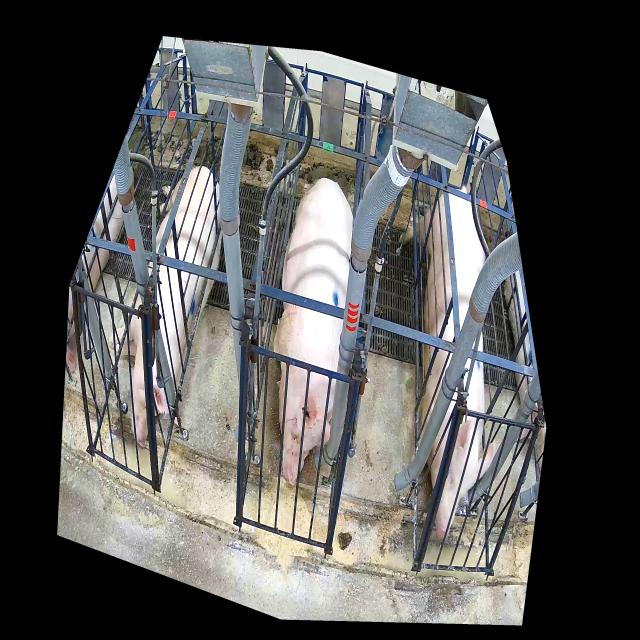pig: (399, 186, 495, 542), (109, 166, 222, 447), (274, 178, 353, 484)
